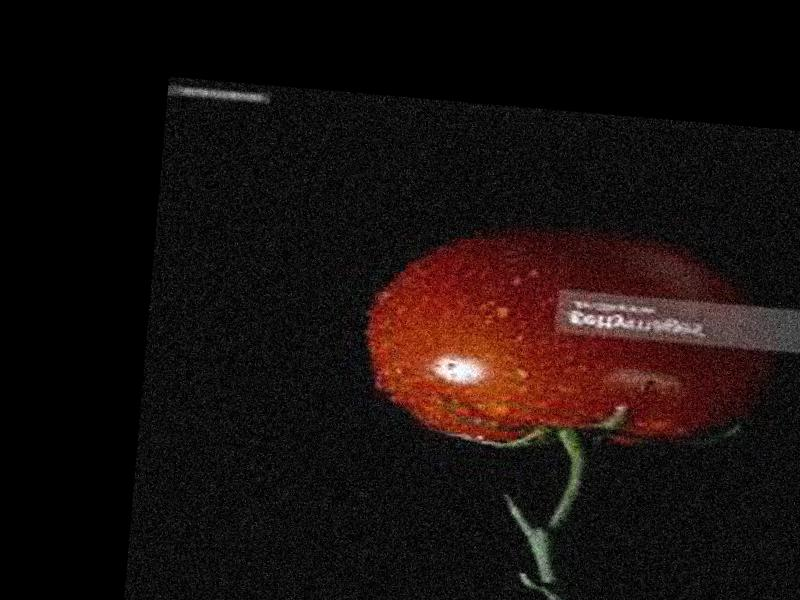Tomato: (360, 220, 767, 461)
